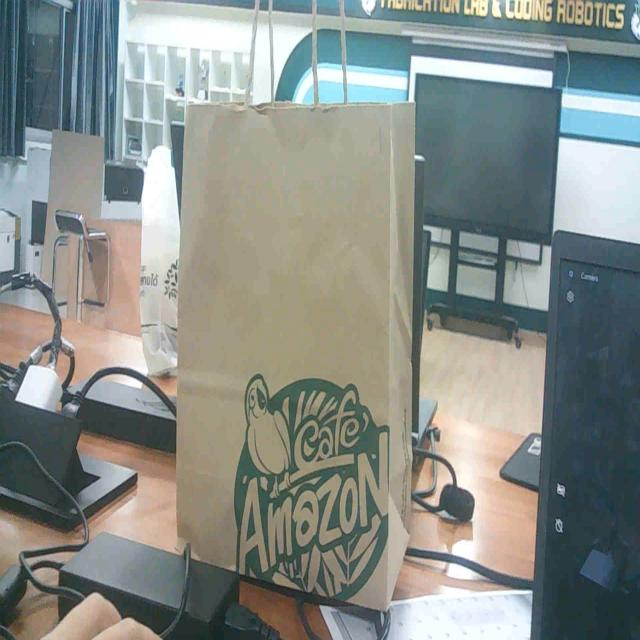bag: (172, 76, 420, 614)
